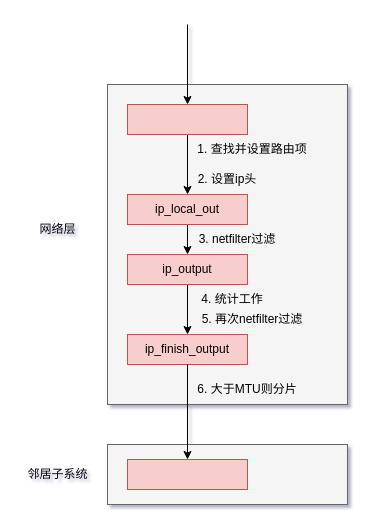
The diagram is 371 pixels wide and 528 high, and some of its shapes have lost their labels. Here are the shapes that lost their labels. From the top down, the centre of each, then its label:
At (x=187, y=119): "ip_queue_xmit".
At (x=187, y=474): "dst_neigh_output".
